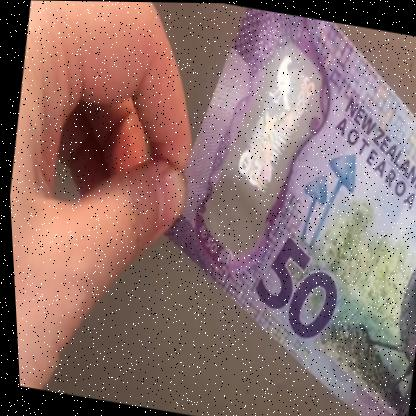50B: (210, 42, 327, 256)
